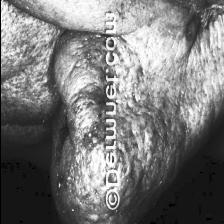Non-Cancerous Skin Condition: (23, 0, 127, 224), (121, 0, 224, 213)
